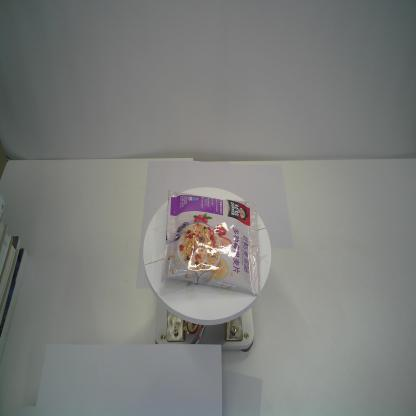Instant Drink: (159, 187, 262, 298)
